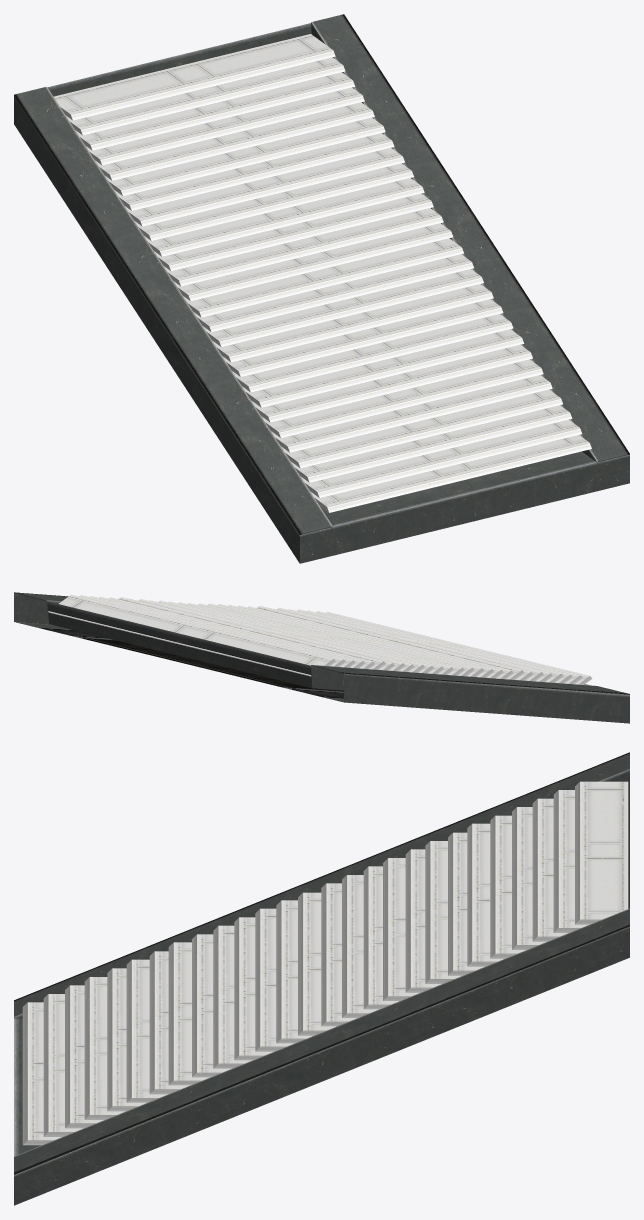
File: Neon_Stairs_L.FBX
3 views of the same model, one above another, from view 1: azimuth 30°, elevation 25°; view 2: azimuth 150°, elevation 25°; view 3: azimuth 270°, elevation 25° (orthographic). The views are drawn at different scales.
Parts seen in each view (by area): view 1: Neon_Stairs_L; view 2: Neon_Stairs_L; view 3: Neon_Stairs_L.
Part boxes in pixels (x1,y1,x2,y2): Neon_Stairs_L: (14,14,629,563); Neon_Stairs_L: (14,592,629,723); Neon_Stairs_L: (14,752,629,1205).
Size of the model in its own units: 6 by 4.51 by 9.
